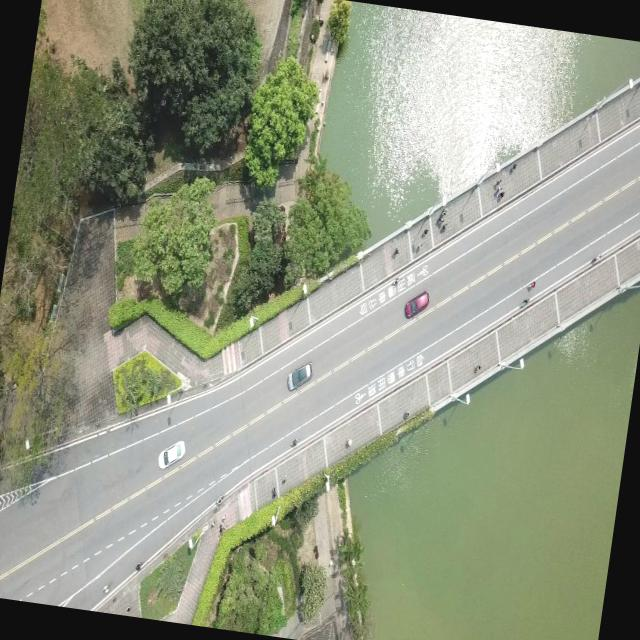car: (403, 286, 432, 322), (158, 436, 186, 470), (286, 359, 313, 394)
